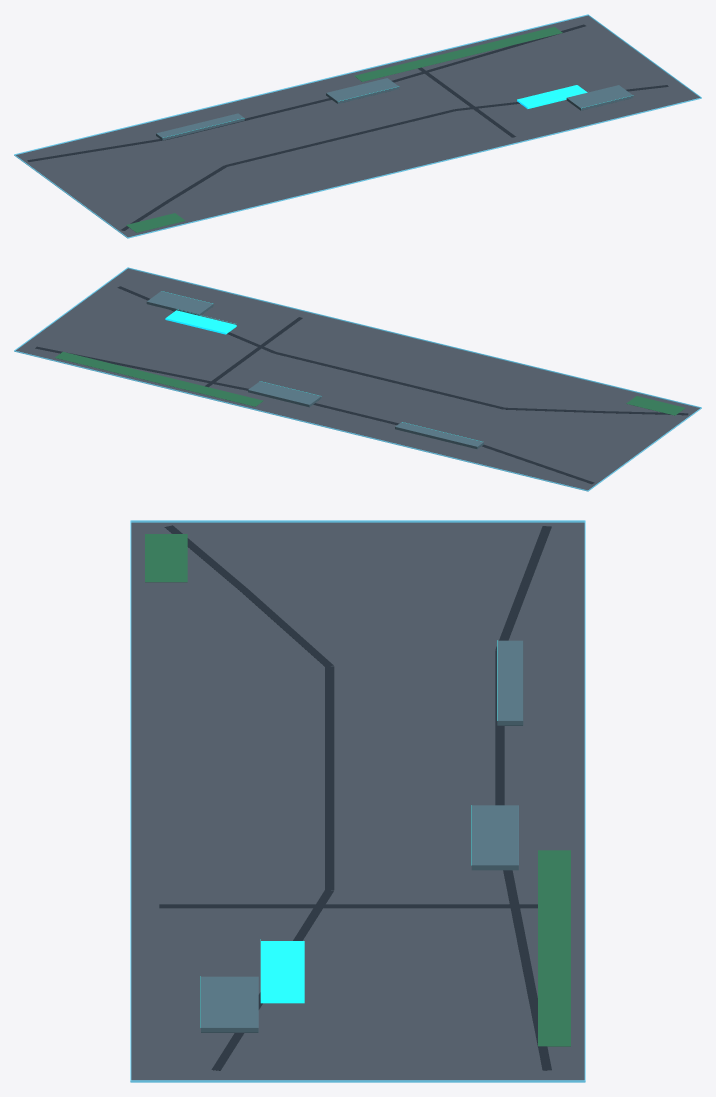
The model's file is site-shell-v1-low.glb.
3 renders of one model, top to bottom at view 1: azimuth 30°, elevation 25°; view 2: azimuth 150°, elevation 25°; view 3: azimuth 270°, elevation 25°, orthographic. The views are drawn at different scales.
Parts seen in each view (by area): view 1: site-apron, green-belt-2, perimeter-fence-00, perimeter-fence-02, SUPPORT-01-mass, WAREHOUSE-SPARE-01-mass, PROCESS-01-mass, PLAN-TRANSFER-01-mass, road-1-02, green-belt-1, road-2-02, road-3-00 (+1 smaller); view 2: site-apron, green-belt-2, perimeter-fence-02, perimeter-fence-00, WAREHOUSE-SPARE-01-mass, SUPPORT-01-mass, PLAN-TRANSFER-01-mass, PROCESS-01-mass, road-1-02, green-belt-1, road-2-02, road-3-00 (+1 smaller); view 3: site-apron, green-belt-2, SUPPORT-01-mass, WAREHOUSE-SPARE-01-mass, PLAN-TRANSFER-01-mass, PROCESS-01-mass, road-1-02, green-belt-1, road-3-00, road-2-02, perimeter-fence-01, perimeter-fence-03 (+6 smaller).
Boxes of the visible parts, left/top/right/bottom form: site-apron: left=16, top=15, right=699, bottom=237; green-belt-2: left=354, top=27, right=562, bottom=81; perimeter-fence-00: left=128, top=97, right=701, bottom=238; perimeter-fence-02: left=14, top=14, right=587, bottom=154; SUPPORT-01-mass: left=566, top=85, right=633, bottom=110; WAREHOUSE-SPARE-01-mass: left=326, top=78, right=399, bottom=103; PROCESS-01-mass: left=156, top=113, right=244, bottom=140; PLAN-TRANSFER-01-mass: left=517, top=85, right=587, bottom=108; road-1-02: left=225, top=109, right=455, bottom=166; green-belt-1: left=126, top=213, right=185, bottom=232; road-2-02: left=392, top=24, right=585, bottom=82; road-3-00: left=418, top=67, right=515, bottom=137; site-apron: left=16, top=268, right=699, bottom=490; green-belt-2: left=55, top=352, right=263, bottom=406; perimeter-fence-02: left=14, top=350, right=587, bottom=491; perimeter-fence-00: left=128, top=267, right=700, bottom=407; WAREHOUSE-SPARE-01-mass: left=248, top=381, right=321, bottom=407; SUPPORT-01-mass: left=146, top=291, right=213, bottom=315; PLAN-TRANSFER-01-mass: left=165, top=310, right=236, bottom=334; PROCESS-01-mass: left=395, top=422, right=483, bottom=449; road-1-02: left=274, top=352, right=504, bottom=409; green-belt-1: left=626, top=396, right=685, bottom=415; road-2-02: left=35, top=346, right=248, bottom=390; road-3-00: left=205, top=317, right=302, bottom=387; site-apron: left=131, top=522, right=584, bottom=1080; green-belt-2: left=538, top=850, right=570, bottom=1046; SUPPORT-01-mass: left=201, top=976, right=258, bottom=1032; WAREHOUSE-SPARE-01-mass: left=471, top=805, right=518, bottom=870; PLAN-TRANSFER-01-mass: left=260, top=941, right=304, bottom=1003; PROCESS-01-mass: left=497, top=640, right=523, bottom=725; road-1-02: left=325, top=666, right=334, bottom=890; green-belt-1: left=145, top=534, right=187, bottom=582; road-3-00: left=159, top=904, right=537, bottom=908; road-2-02: left=503, top=870, right=551, bottom=1070; perimeter-fence-01: left=130, top=1080, right=585, bottom=1082; perimeter-fence-03: left=131, top=520, right=584, bottom=522.
Size of the model in its own units: 1401 by 6.44 by 481.
